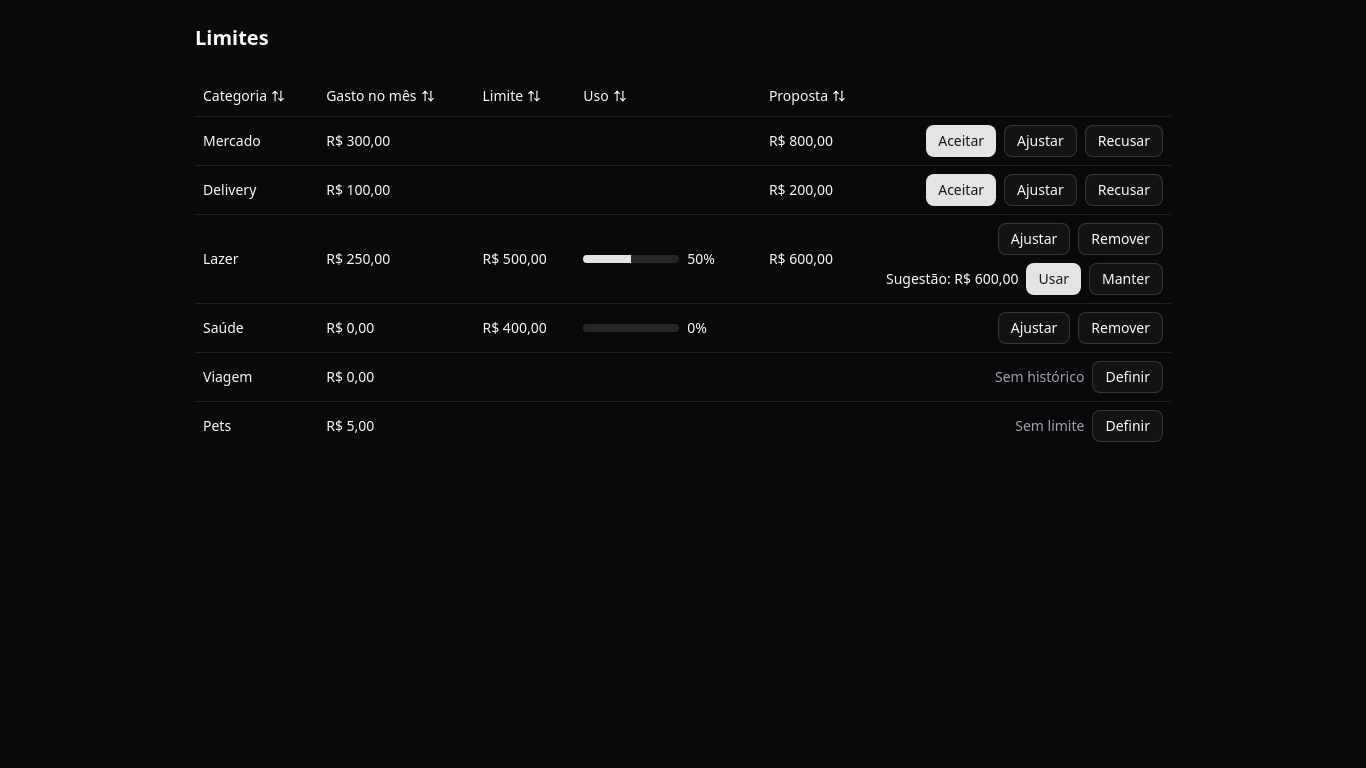
Test: Limits › prefills the dialog with the current limit or the proposal
This screenshot has width=1366, height=768.
Click the button with aria-label "Ajustar Saúde". click: click(1034, 328)
box: [998,312,1070,344]
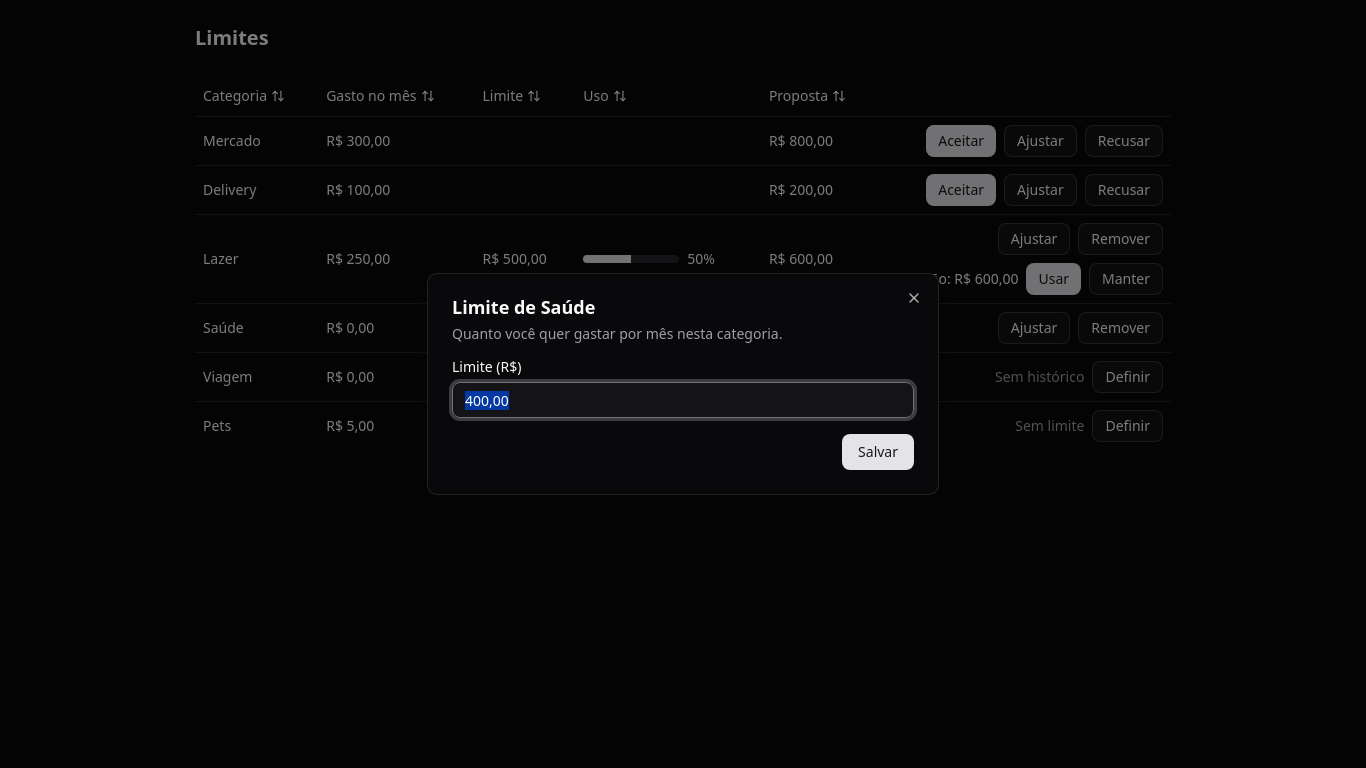
Result: the field labelled "Limite (R$)" holds "400,00" at [452,382,914,418]
